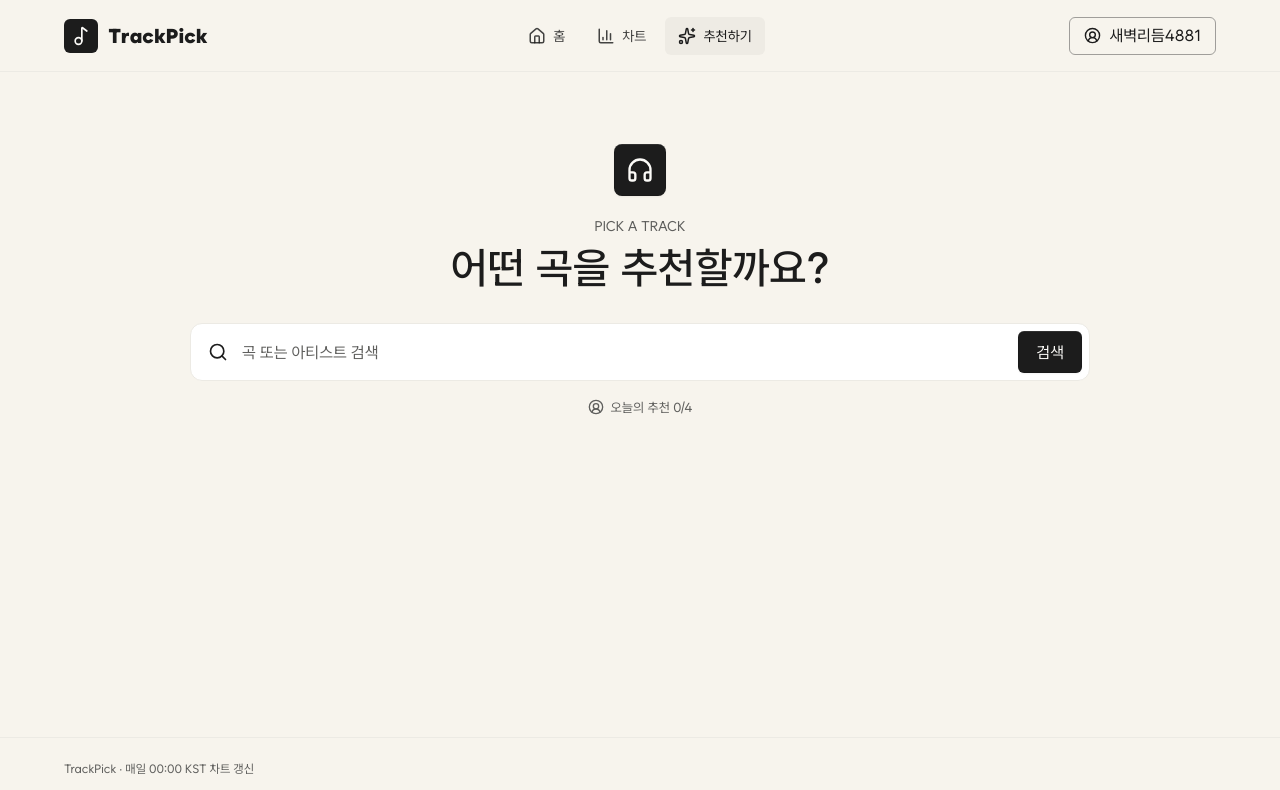
it: TrackPick app shell › shows the next recommendation date from the waiting action
In the field labelled "곡 또는 아티스트 검색": [623, 352] box [240,342,1006,363], type "Cooling"
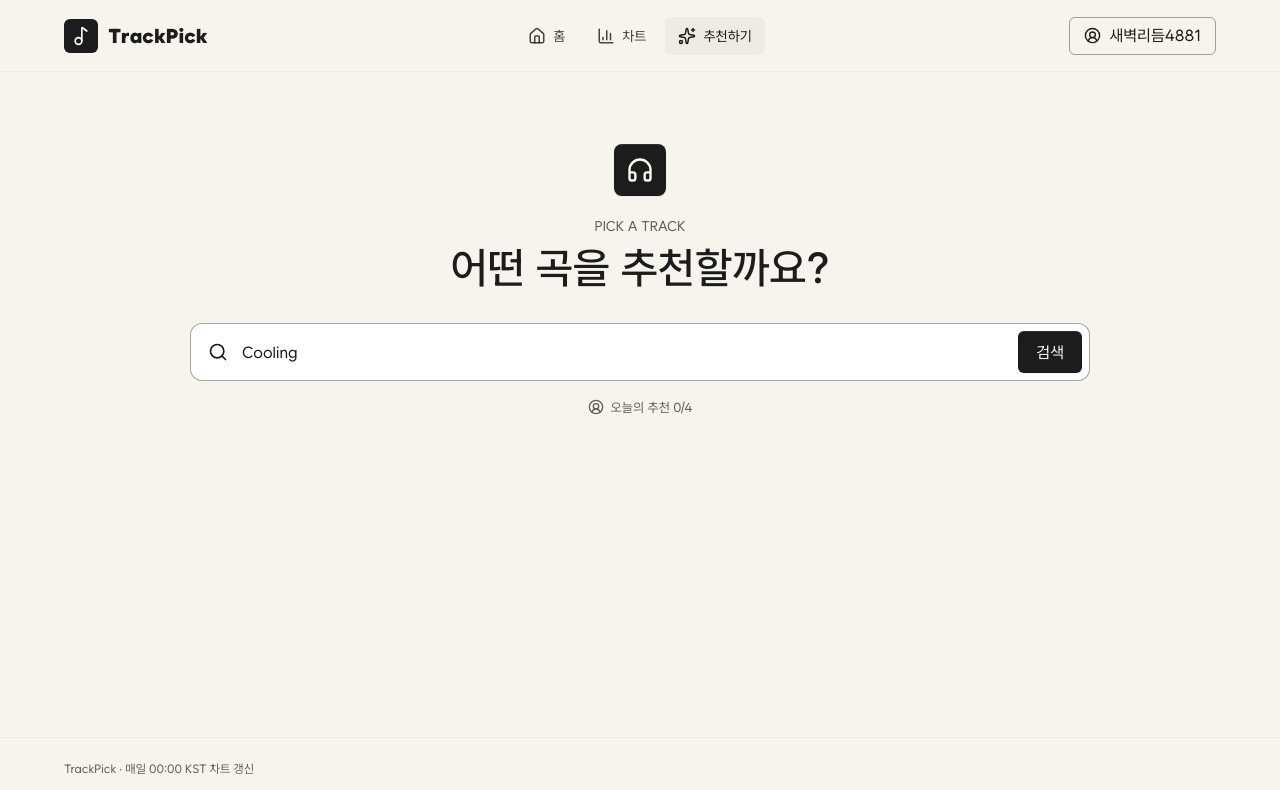
Click the button "검색": [1050, 352] box [1018,331,1082,373]
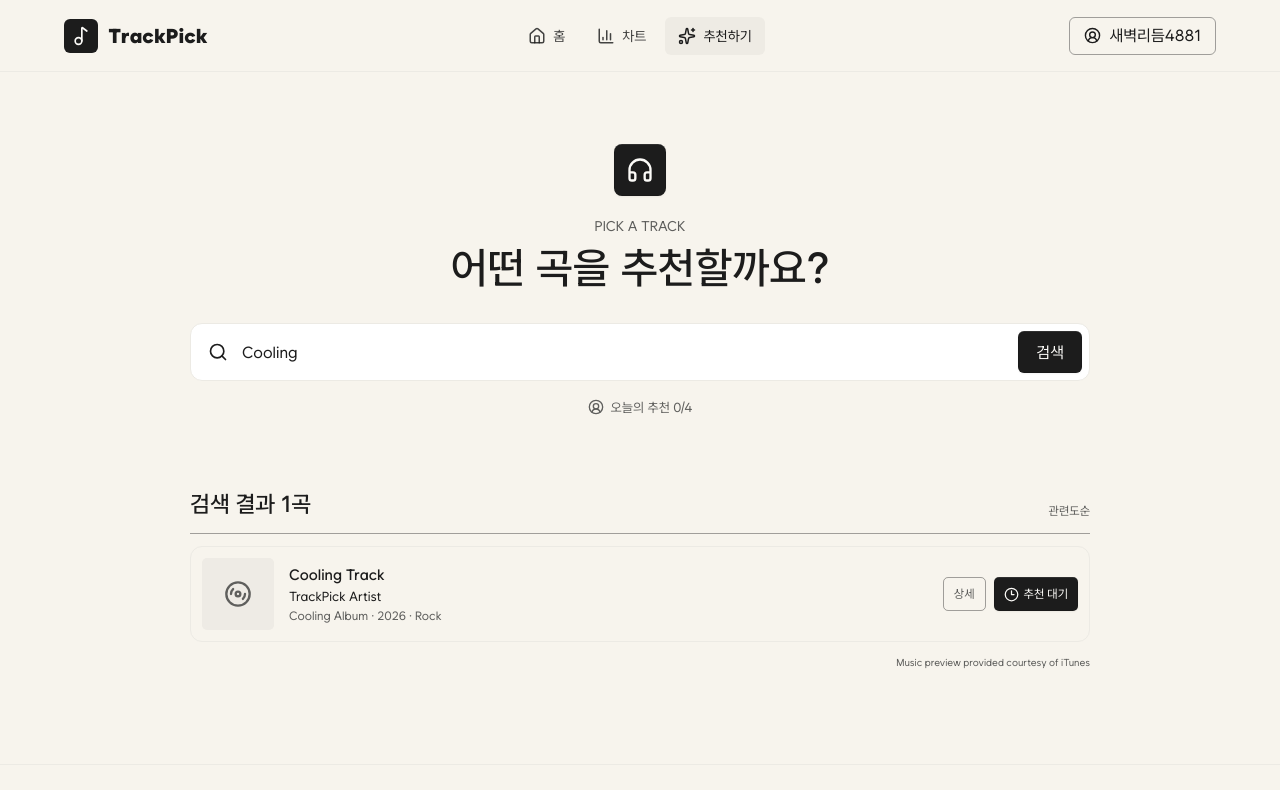
Click the button "추천 대기": [1036, 594] box [994,577,1078,611]
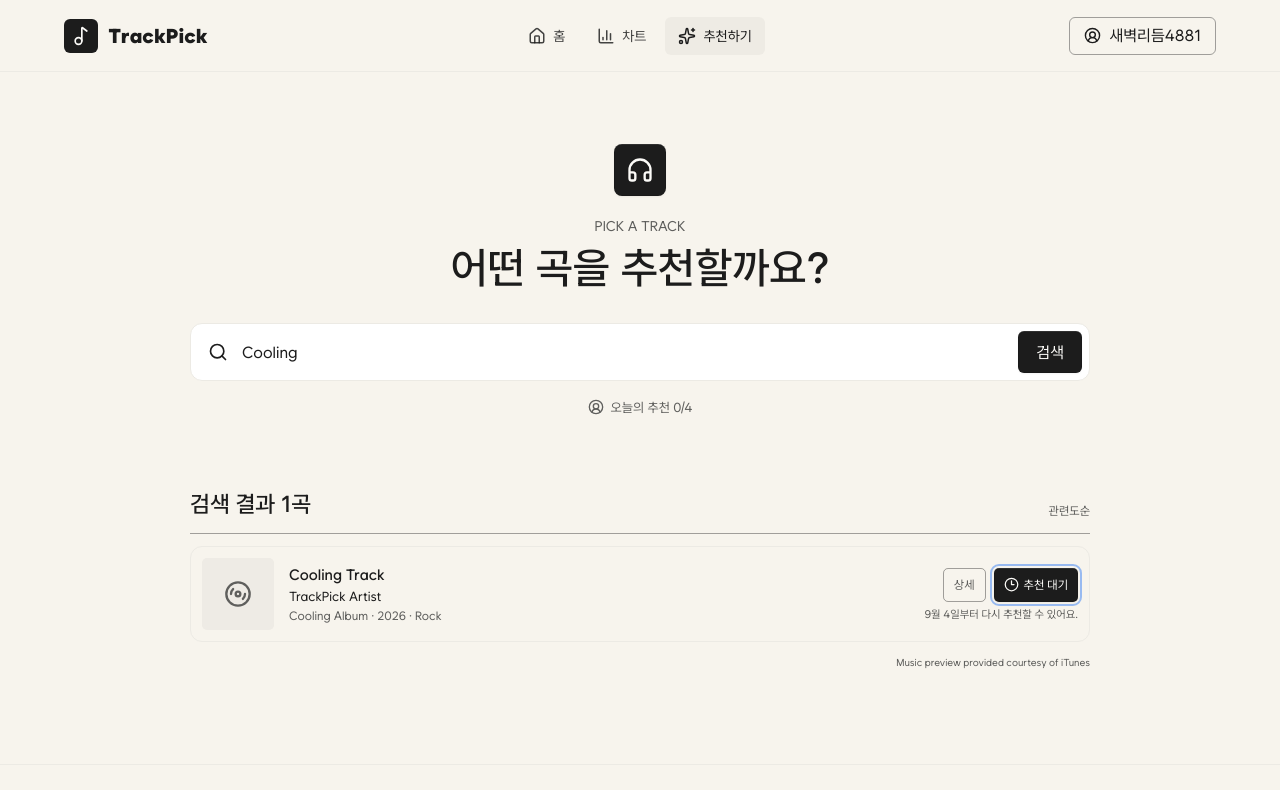
Now the text "9월 4일부터 다시 추천할 수 있어요." is shown, box [924,608,1078,621]
